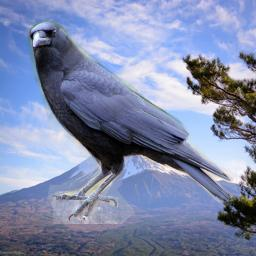Crow: (24, 21, 237, 224)
